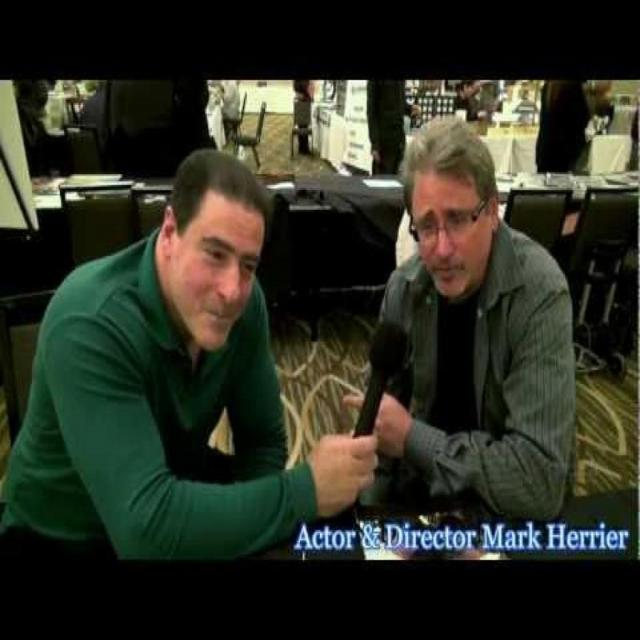nomask: (170, 173, 260, 350), (410, 160, 482, 312)
